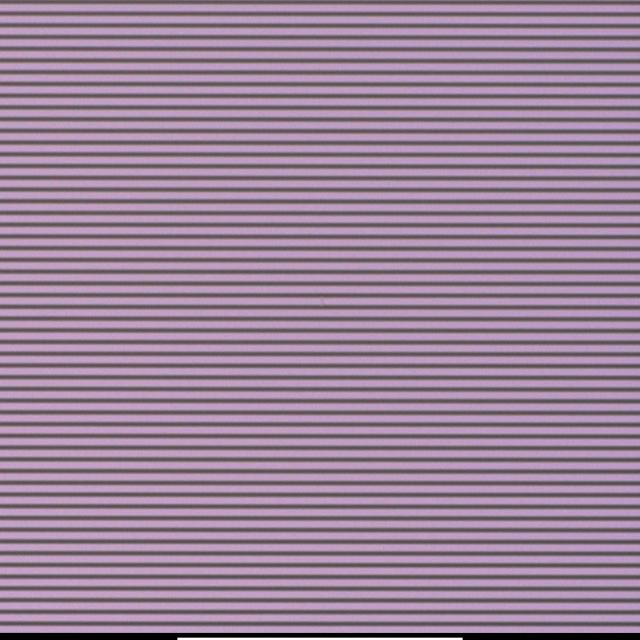03_intrusion: (317, 294, 328, 305)
